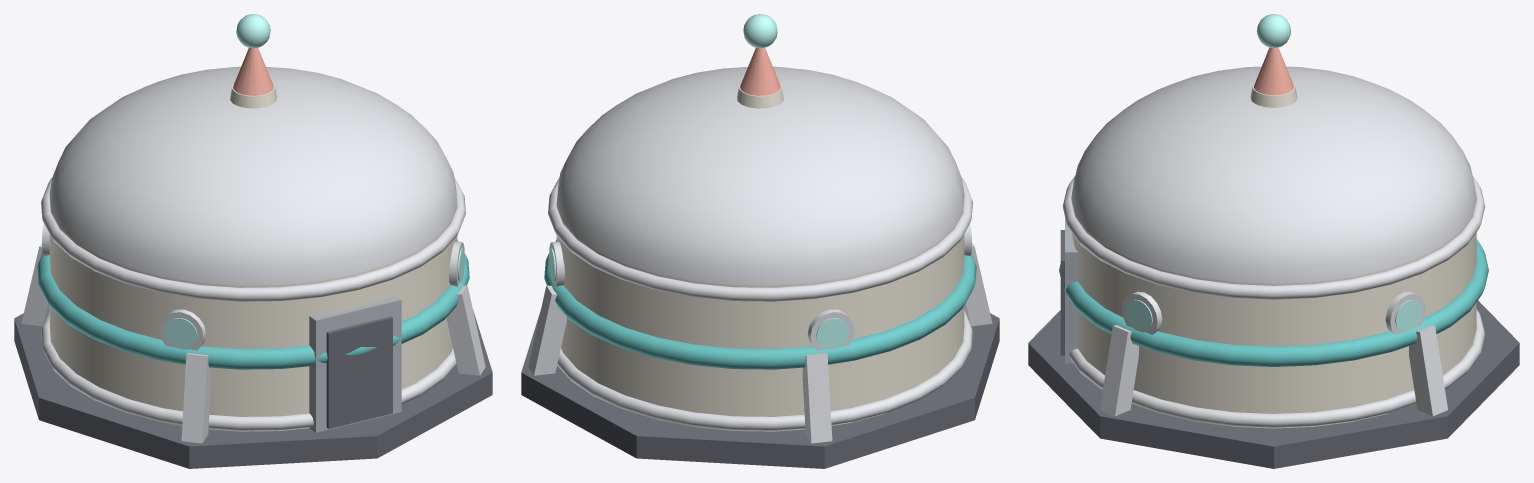
Rendered from ic_hub.glb.
3 renders of one model, left to right at view 1: azimuth 30°, elevation 25°; view 2: azimuth 150°, elevation 25°; view 3: azimuth 270°, elevation 25°, orthographic.
Visible parts, largest first — view 1: ic_hub; view 2: ic_hub; view 3: ic_hub.
Part boxes in pixels (box(x1,y1,x2,y2)): ic_hub: box(14, 14, 492, 468); ic_hub: box(521, 14, 999, 468); ic_hub: box(1028, 14, 1519, 468).
Size of the model in its own units: 8 by 6.3 by 8.
